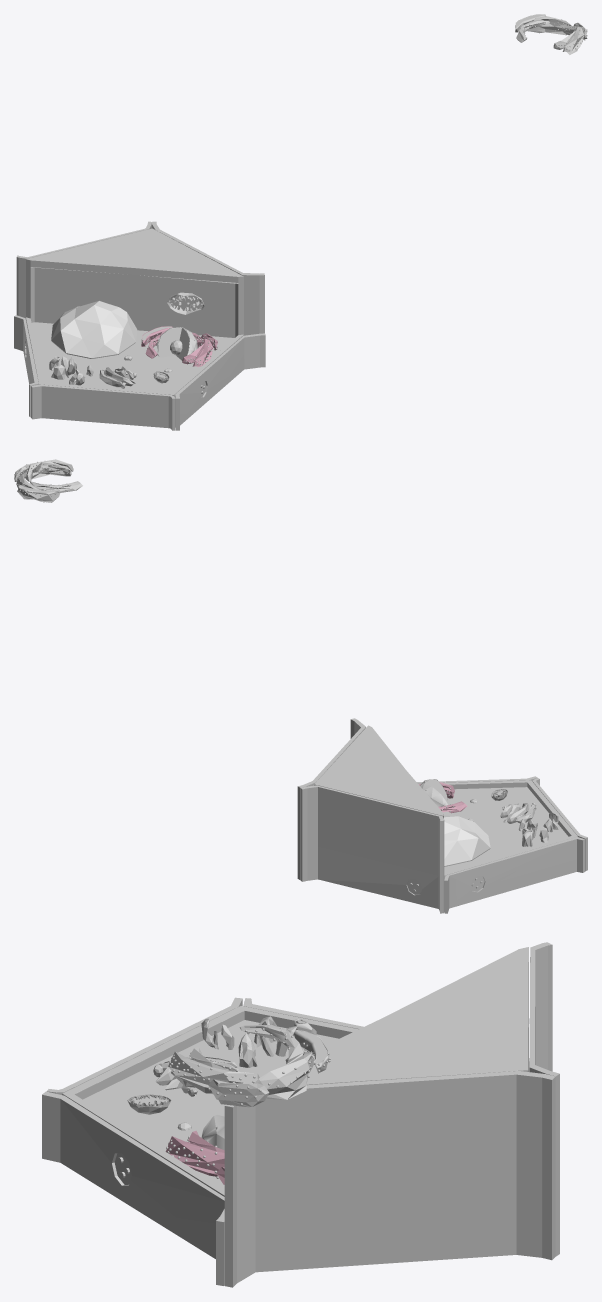
Rendered from Zelle.fbx.
3 views of the same model, one above another, from view 1: azimuth 30°, elevation 25°; view 2: azimuth 150°, elevation 25°; view 3: azimuth 270°, elevation 25° (orthographic). The views are drawn at different scales.
Parts seen in each view (by area): view 1: Cylinder, Cylinder.002, Vakuole, ico, Icosphere.024, Icosphere.001, Golgi; view 2: Cylinder, Cylinder.002, Vakuole, ico, Icosphere.024; view 3: Cylinder, Cylinder.002, ico, Icosphere.024, Icosphere.036, Golgi, Zellkern.
Part boxes in pixels (x1,y1,x2,y2): Cylinder: (14, 221, 265, 430); Cylinder.002: (31, 267, 235, 396); Vakuole: (51, 301, 137, 358); ico: (515, 14, 587, 54); Icosphere.024: (49, 356, 93, 385); Icosphere.001: (158, 327, 194, 360); Golgi: (99, 366, 136, 388); Cylinder: (297, 718, 587, 913); Cylinder.002: (407, 787, 568, 894); Vakuole: (443, 811, 490, 866); ico: (14, 459, 82, 502); Icosphere.024: (518, 813, 558, 846); Cylinder: (42, 942, 559, 1287); Cylinder.002: (83, 1020, 338, 1188); ico: (168, 1025, 330, 1107); Icosphere.024: (201, 1016, 316, 1067); Icosphere.036: (165, 1130, 224, 1176); Golgi: (153, 1056, 239, 1096); Zellkern: (201, 1113, 224, 1150).
Size of the model in its own units: 626 by 289 by 254.
